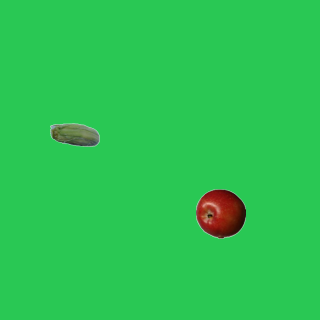Apple Braeburn: (195, 188, 245, 238)
Corn Husk: (49, 111, 99, 161)
